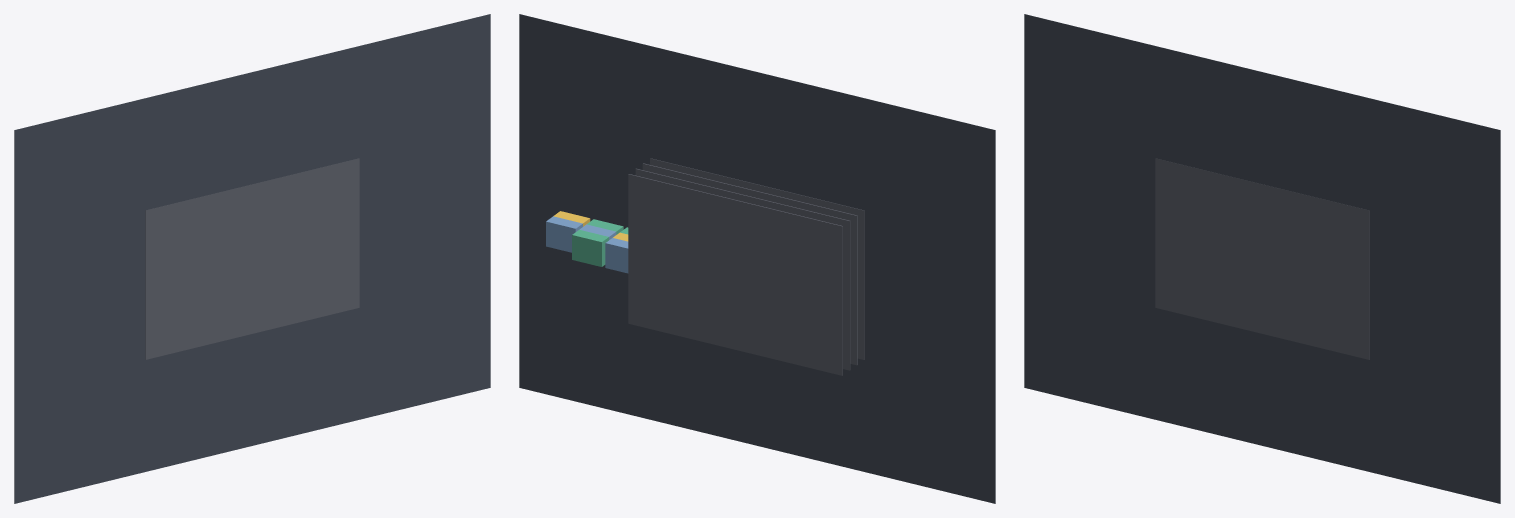
The model's file is demo-mall.glb.
3 views of the same model, side by side, from view 1: azimuth 30°, elevation 25°; view 2: azimuth 150°, elevation 25°; view 3: azimuth 330°, elevation 25° (orthographic).
Parts seen in each view (by area): view 1: SITE_GROUND, MALL_G_STRUCT; view 2: SITE_GROUND, MALL_ROOF, MALL_F1_STRUCT, MALL_F2_STRUCT, MALL_G_STRUCT, SHOP_F2_020, SHOP_F1_014, SHOP_F2_019; view 3: SITE_GROUND, MALL_G_STRUCT.
Boxes of the visible parts, x1=… form: SITE_GROUND: x1=14, y1=14, x2=490, y2=503; MALL_G_STRUCT: x1=145, y1=158, x2=359, y2=359; SITE_GROUND: x1=519, y1=14, x2=995, y2=503; MALL_ROOF: x1=628, y1=174, x2=842, y2=375; MALL_F1_STRUCT: x1=642, y1=163, x2=857, y2=365; MALL_F2_STRUCT: x1=635, y1=168, x2=850, y2=370; MALL_G_STRUCT: x1=650, y1=158, x2=864, y2=359; SHOP_F2_020: x1=572, y1=229, x2=608, y2=266; SHOP_F1_014: x1=546, y1=216, x2=582, y2=252; SHOP_F2_019: x1=605, y1=238, x2=628, y2=273; SITE_GROUND: x1=1024, y1=14, x2=1500, y2=503; MALL_G_STRUCT: x1=1155, y1=158, x2=1369, y2=359.
Size of the model in its own units: 160 by 120 by 12.9.
